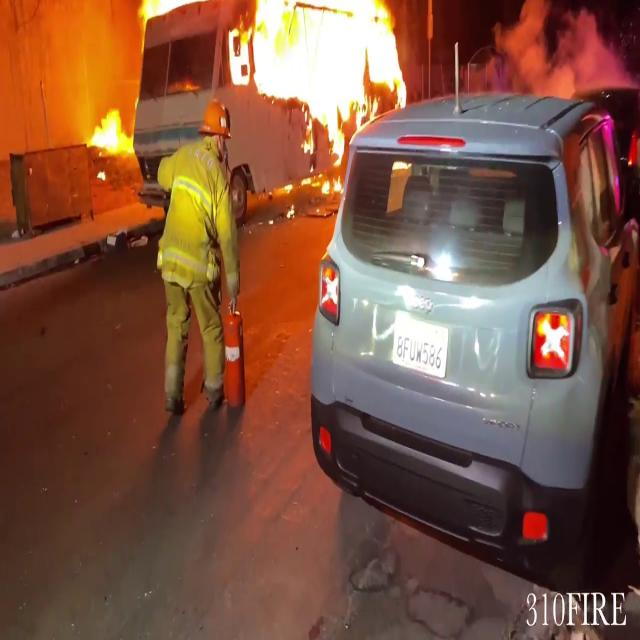Fire: (227, 0, 411, 156), (84, 103, 132, 163)
